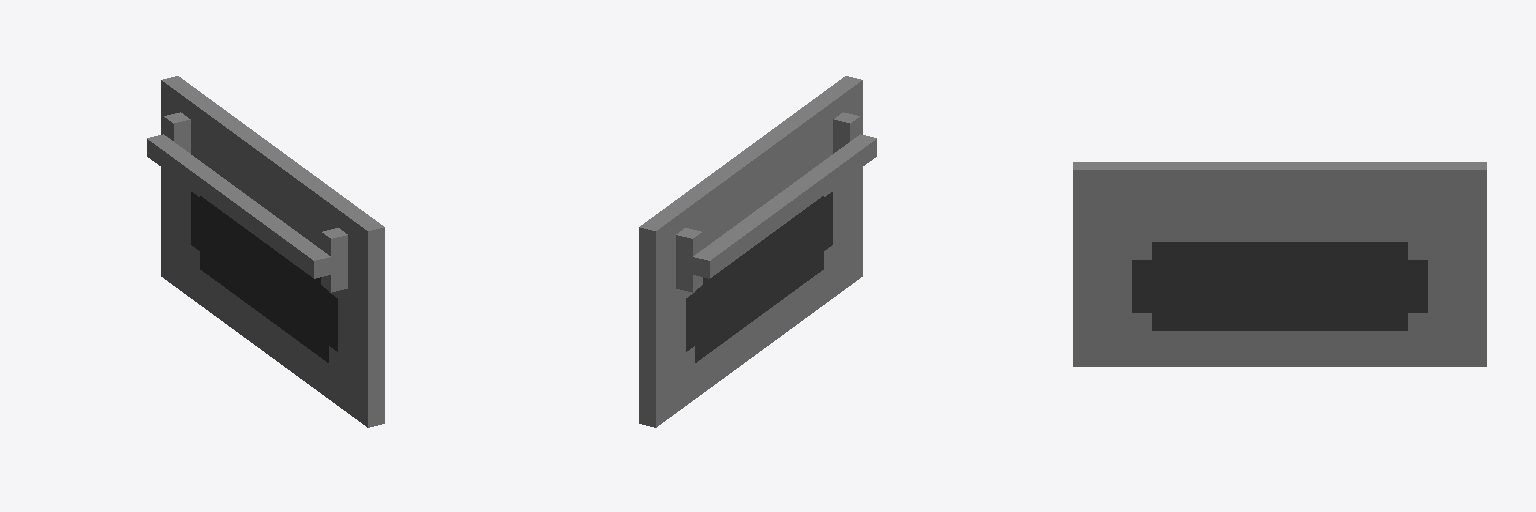
3 renders of one model, left to right at view 1: azimuth 30°, elevation 25°; view 2: azimuth 150°, elevation 25°; view 3: azimuth 270°, elevation 25°, orthographic.
Parts seen in each view (by area): view 1: object 1; view 2: object 1; view 3: object 1.
Boxes of the visible parts, box(x1,y1,x2,y2) form: object 1: box(147, 76, 384, 427); object 1: box(639, 76, 876, 427); object 1: box(1073, 162, 1486, 366).
Bounding box in the file's own units: 0.3 × 1.1 × 2.1.
1 materials, 1 textured.